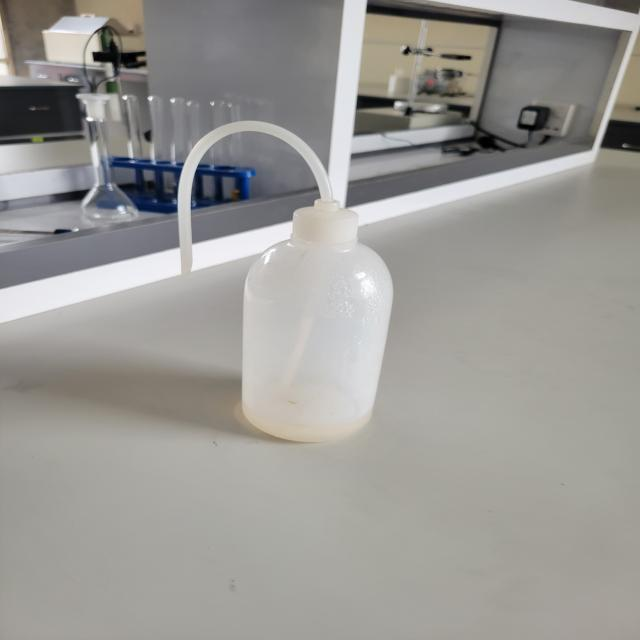Wash_Bottle: (138, 91, 468, 485)
